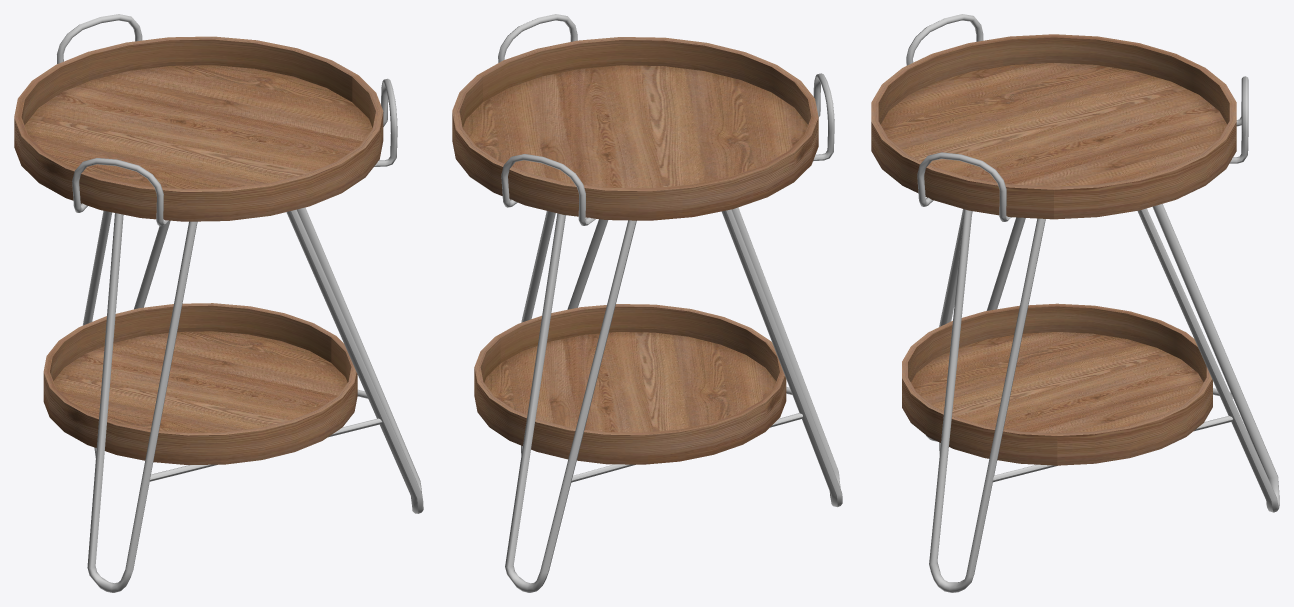
The model's file is Side Table.fbx.
3 renders of one model, left to right at view 1: azimuth 30°, elevation 25°; view 2: azimuth 150°, elevation 25°; view 3: azimuth 270°, elevation 25°, orthographic.
Visible parts, largest first — view 1: s4studio_mesh_2; view 2: s4studio_mesh_2; view 3: s4studio_mesh_2.
Boxes of the visible parts, <box> form: s4studio_mesh_2: <box>14,14,423,592</box>; s4studio_mesh_2: <box>452,14,842,592</box>; s4studio_mesh_2: <box>871,14,1279,592</box>.
Bounding box in the file's own units: 56.21 × 67.13 × 58.27.
